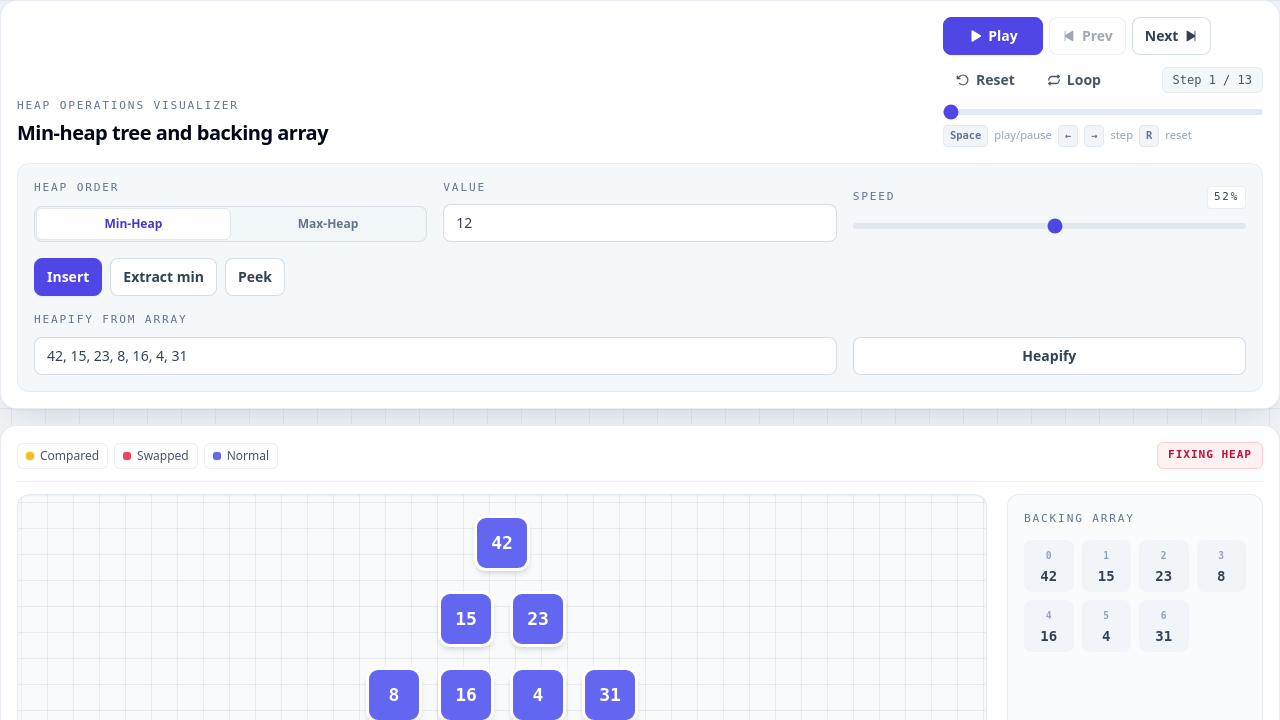
Scenario: heap min/max modes › switches to max-heap mode
Click the radio button labelled "Max-heap".
click(328, 224)  # box [232,209,424,239]
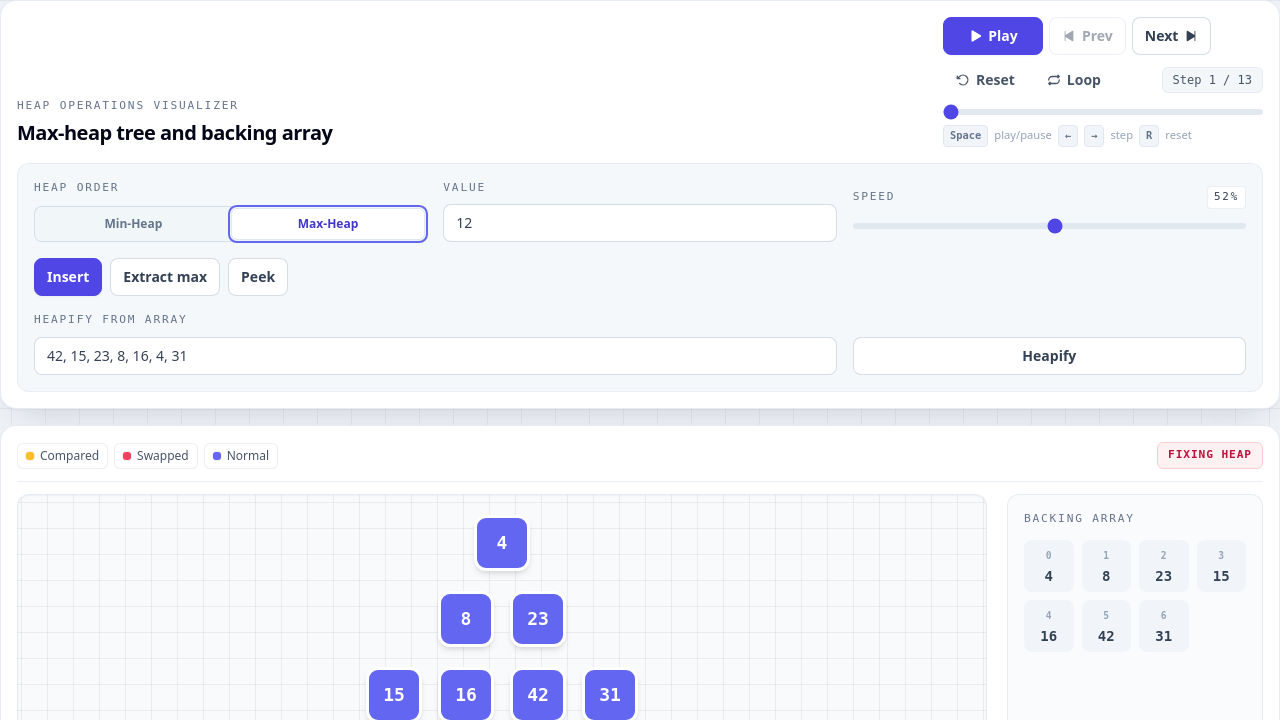
Result: the heading "Max-heap tree and backing array" is shown at [17,119,332,147]
